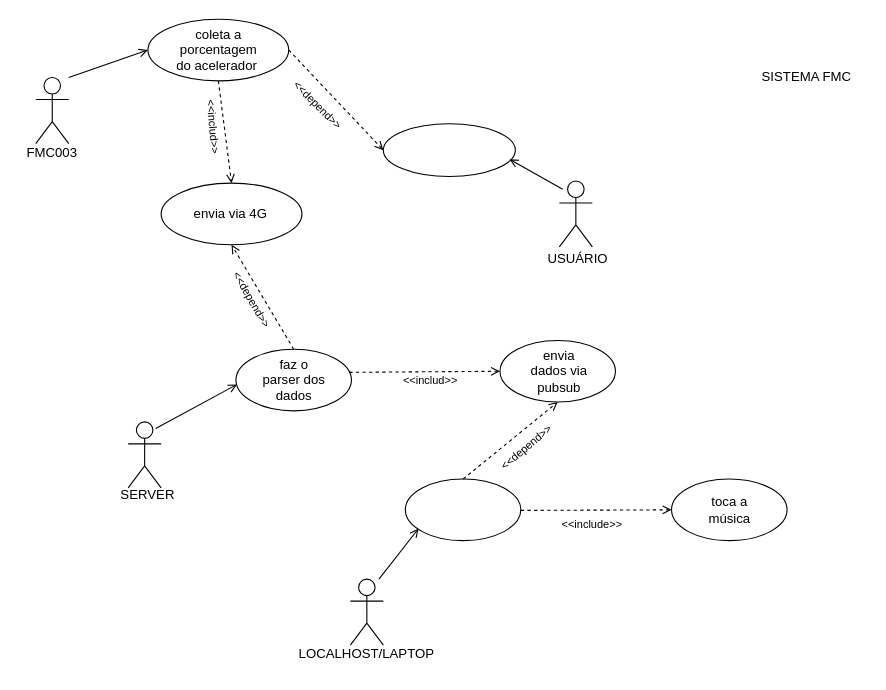
The diagram is 886 pixels wide and 690 high, and some of its shapes have lost their labels. Here are the shapes that lost their labels. From the top down, the centre of each, then its label:
point 448,150: pisa no acelerador
point 462,509: Interpreta os dados
